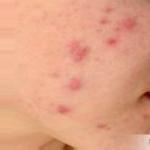Acne: (70, 44, 88, 61), (55, 103, 73, 116), (66, 77, 82, 91), (104, 4, 123, 15), (134, 113, 150, 123), (124, 21, 139, 30), (96, 18, 110, 26), (107, 35, 119, 44)
